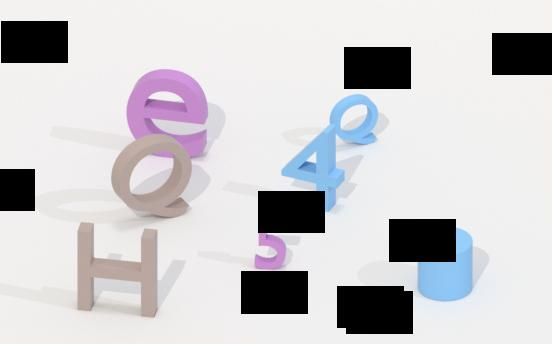5: (253, 213, 292, 279)
6: (278, 120, 346, 212)
H-hoa: (76, 214, 162, 322)
e: (122, 63, 212, 163)
q: (110, 129, 193, 220), (332, 89, 382, 154)
tru: (415, 224, 475, 308)
